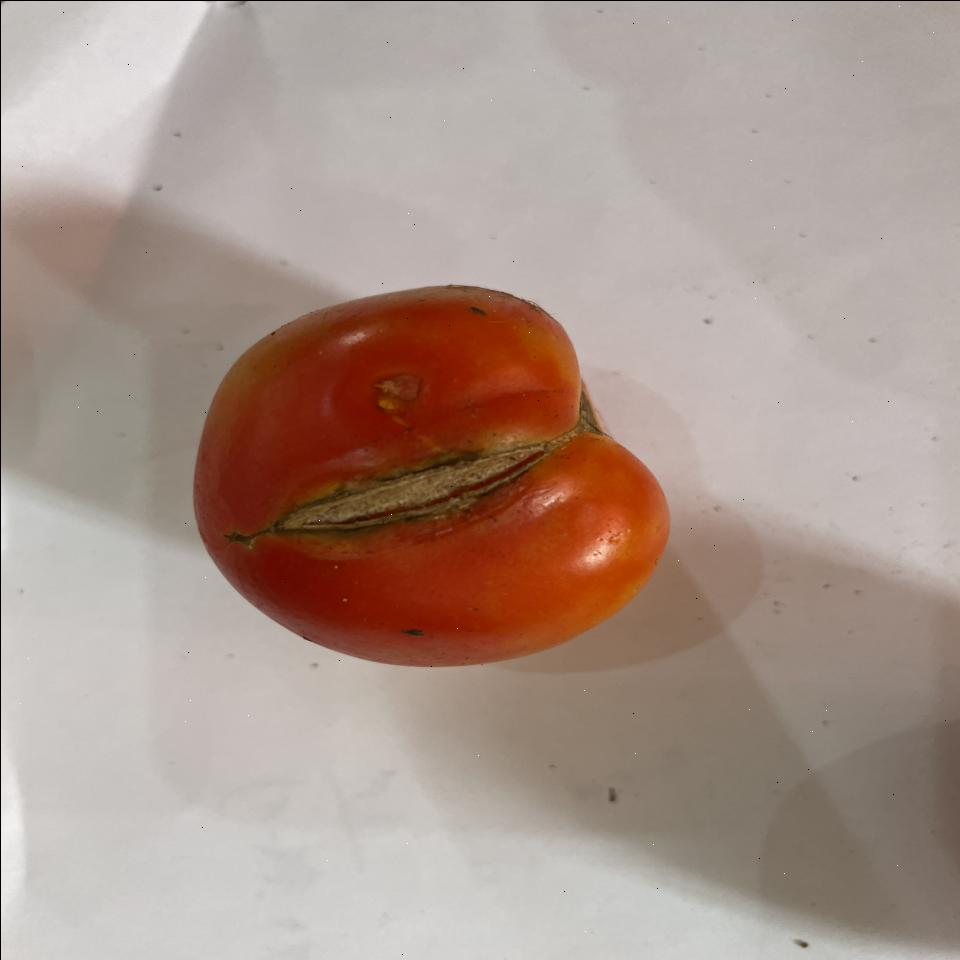Cracking: (232, 444, 570, 544)
